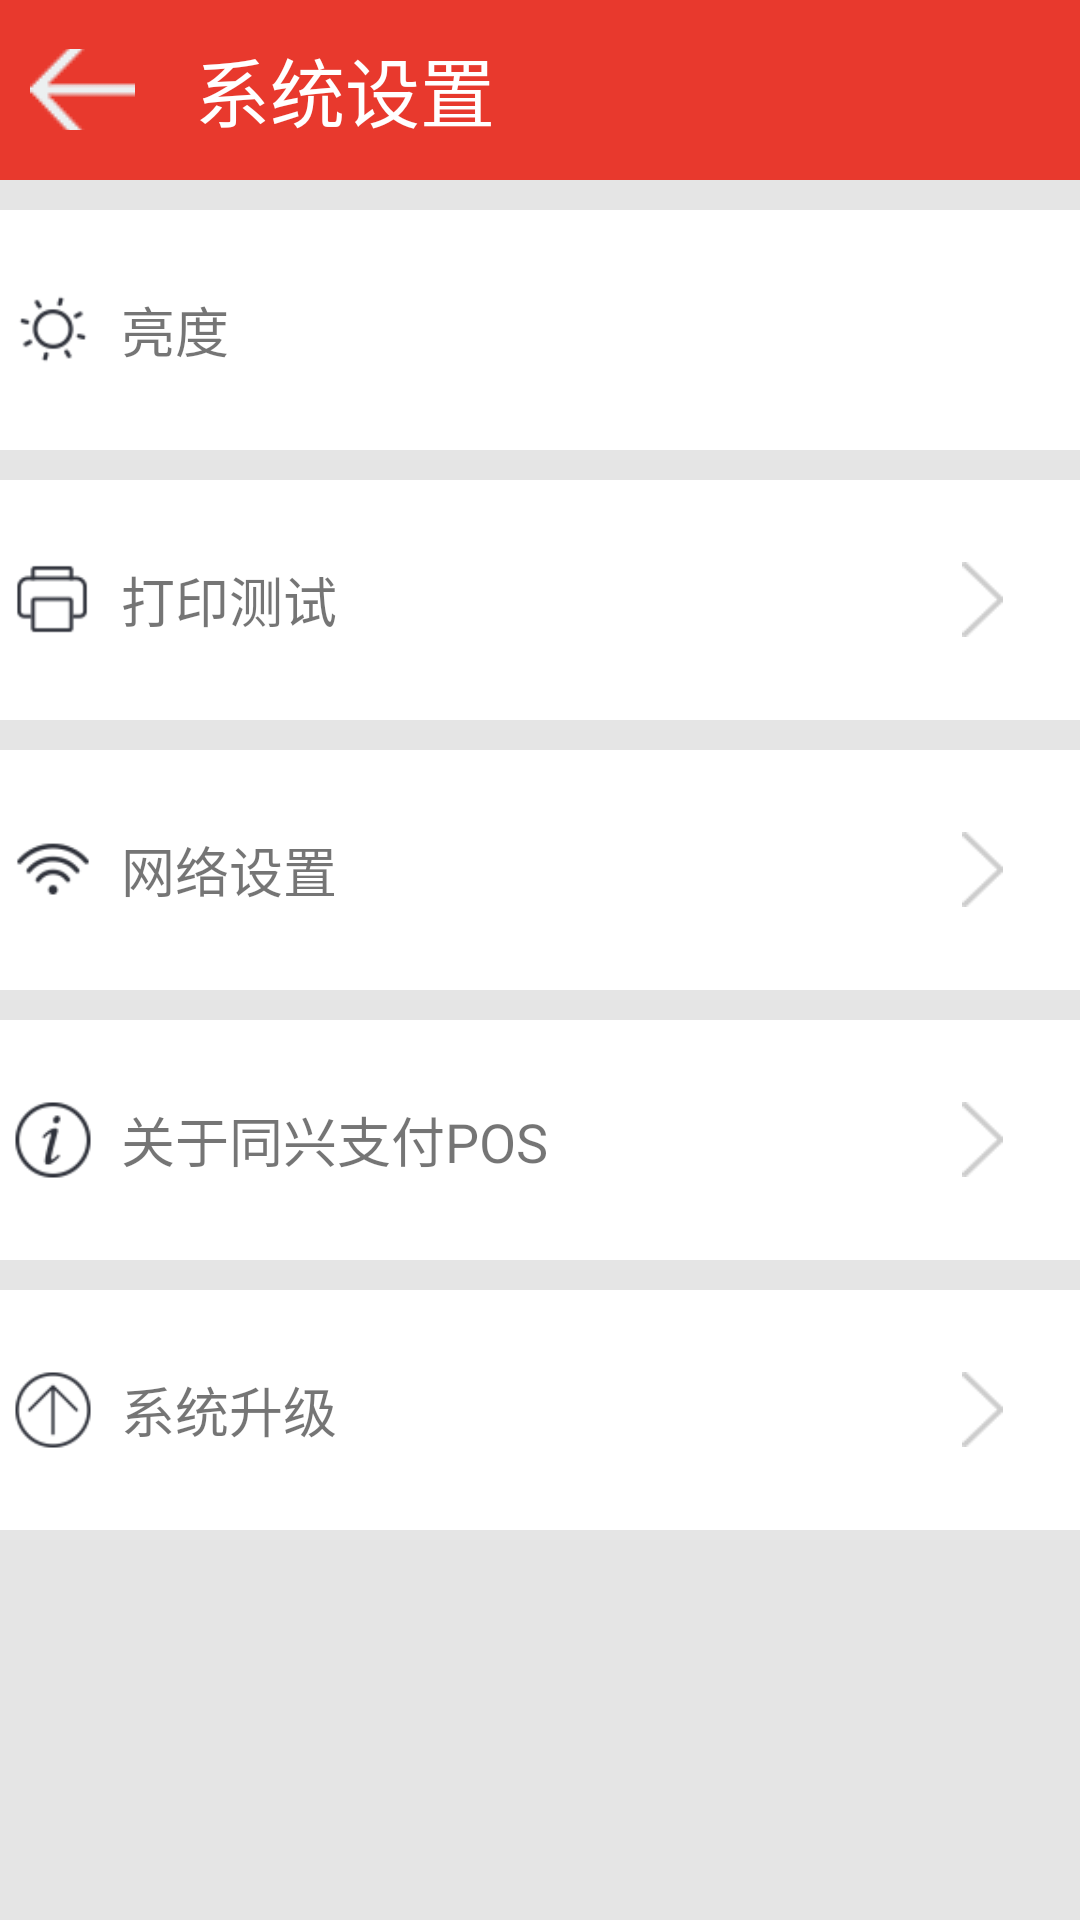

Icon click points for this 1080 × 1920 phone screenshot, format (x=x, y=y):
back: (x=82, y=89)
